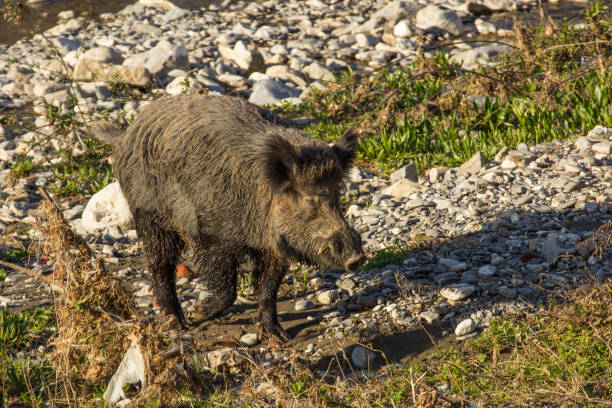pig: (102, 91, 377, 318)
